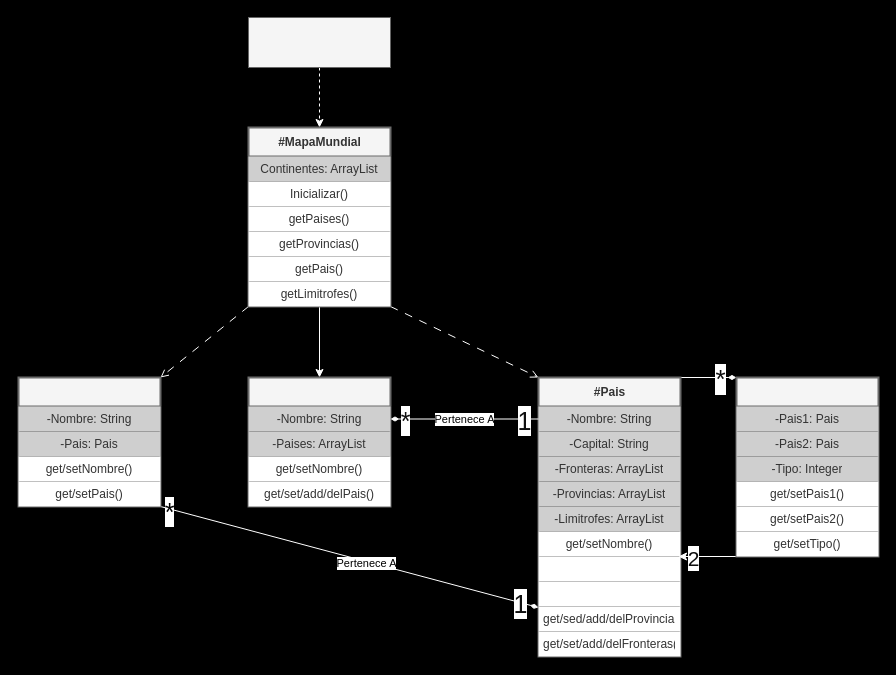
Some shapes in this 896 by 675 pixel diagram are drawn without their labels. The box of each missing label's shape, as (x1, y1, x2, y2) in pixels:
#Continente: (247, 376, 391, 507)
#Frontera: (735, 376, 879, 557)
#Provincia: (17, 376, 161, 507)
#PruebaHerencia: (248, 16, 390, 68)
get/addLimitrofes(): (538, 556, 680, 581)
get/setCapital(): (538, 581, 680, 606)
